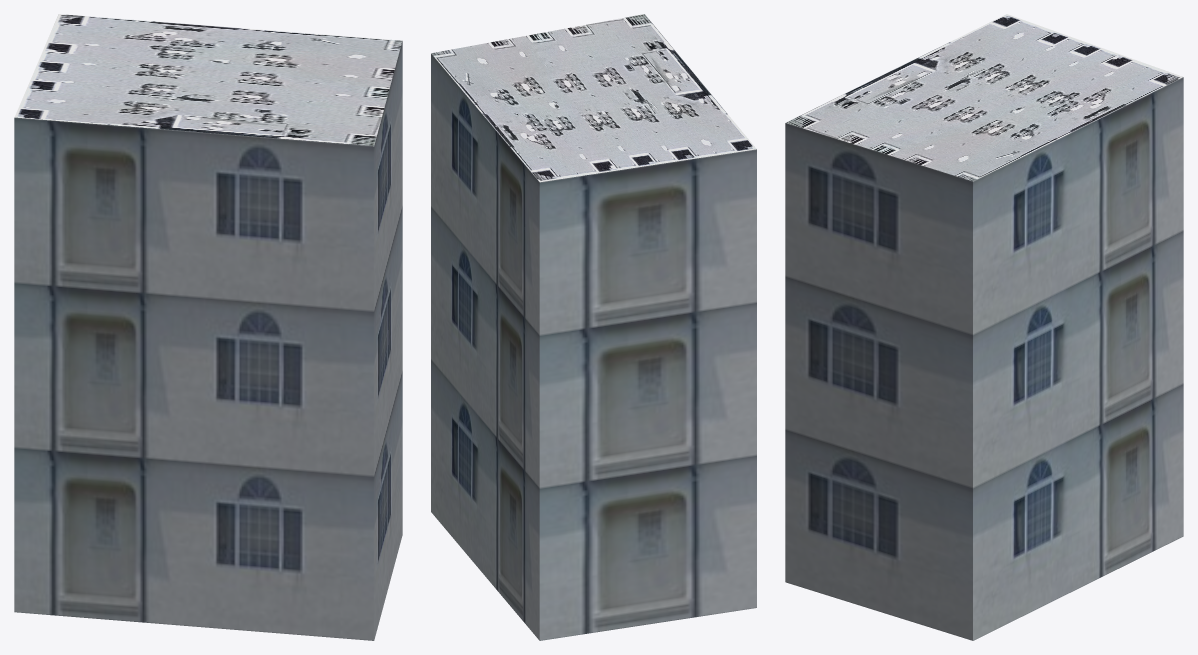
The model's file is ResTex__1392.fbx.
3 views of the same model, side by side, from view 1: azimuth 30°, elevation 25°; view 2: azimuth 150°, elevation 25°; view 3: azimuth 270°, elevation 25° (orthographic). The views are drawn at different scales.
Parts seen in each view (by area): view 1: CityEngineMaterial_17_m, CityEngineMaterial_8_m; view 2: CityEngineMaterial_17_m, CityEngineMaterial_8_m; view 3: CityEngineMaterial_17_m, CityEngineMaterial_8_m.
Part boxes in pixels (x1,y1,x2,y2): CityEngineMaterial_17_m: (14,41,402,640); CityEngineMaterial_8_m: (14,14,402,146); CityEngineMaterial_17_m: (431,53,756,640); CityEngineMaterial_8_m: (431,14,756,182); CityEngineMaterial_17_m: (785,77,1183,640); CityEngineMaterial_8_m: (786,14,1182,181).
Size of the model in its own units: 7.04 by 9 by 7.07.
Materials: 2 (2 with a texture image).
